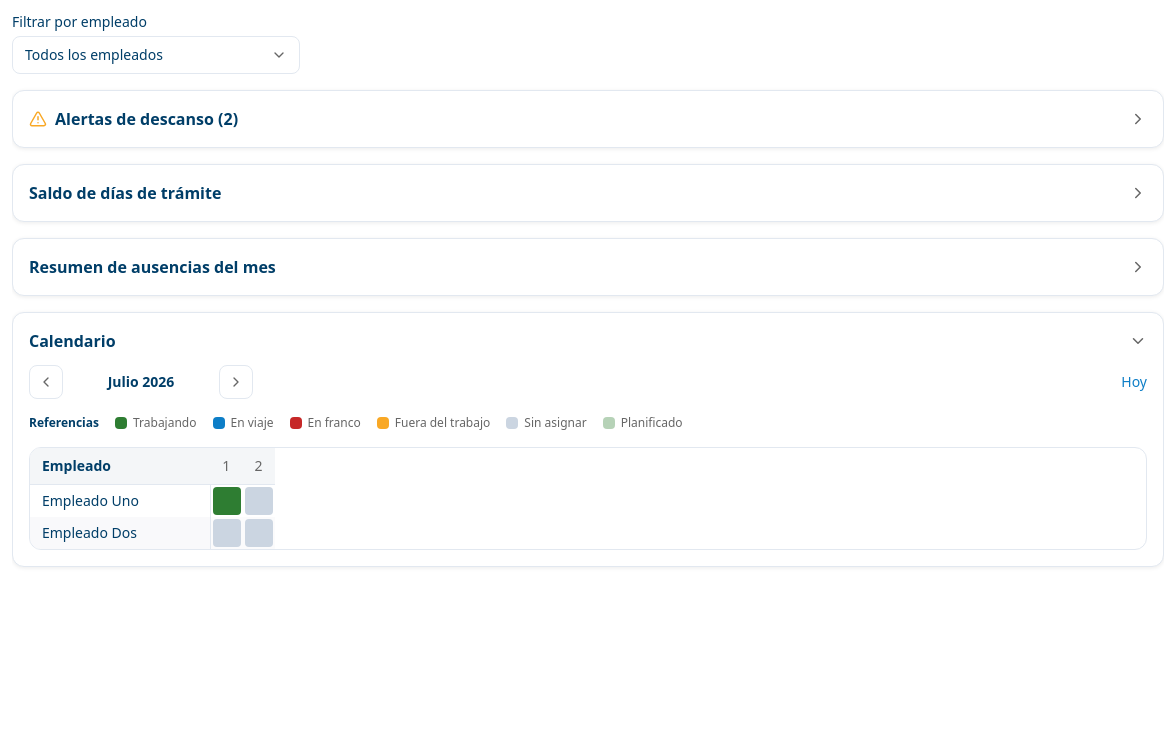
Test: CalendarioSections — showFilter por rol › el filtro solo ofrece los empleados del scope ya resuelto (prop `employees`)
Click the button "Todos los empleados". click: (156, 55)
box: x1=12 y1=36 x2=300 y2=74
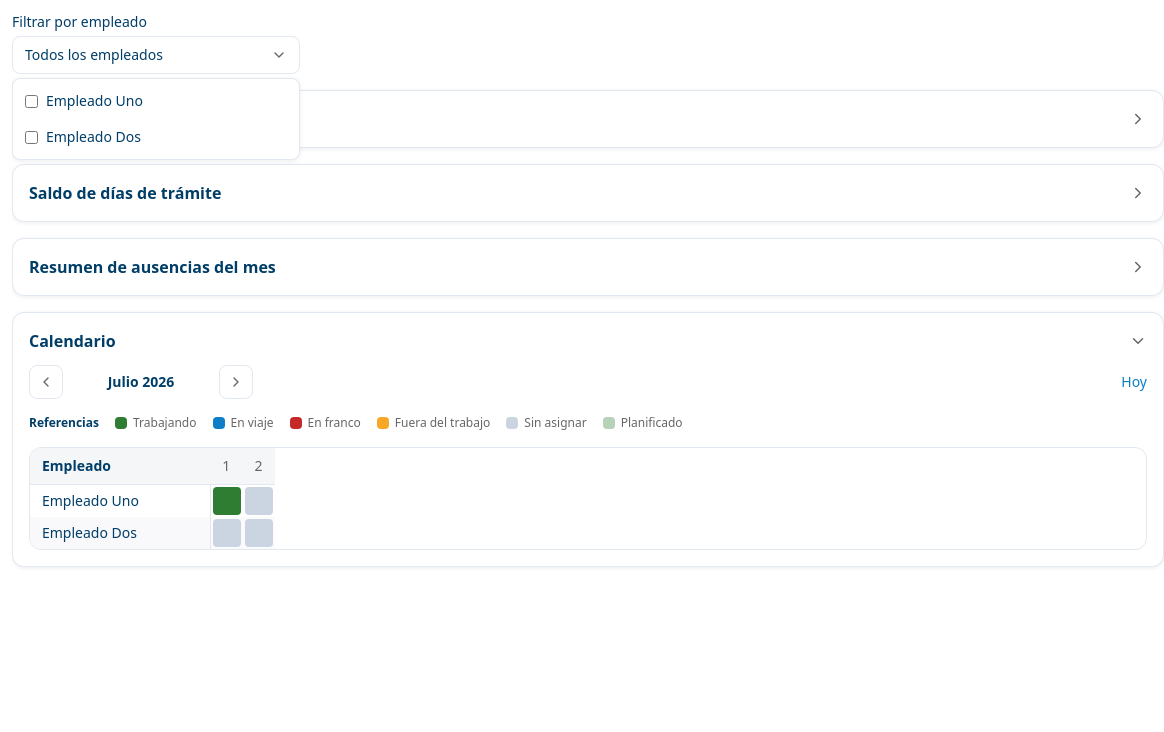
Expected: the number of checkboxes is 2, x1=25 y1=94 x2=38 y2=108; x1=25 y1=130 x2=38 y2=144
